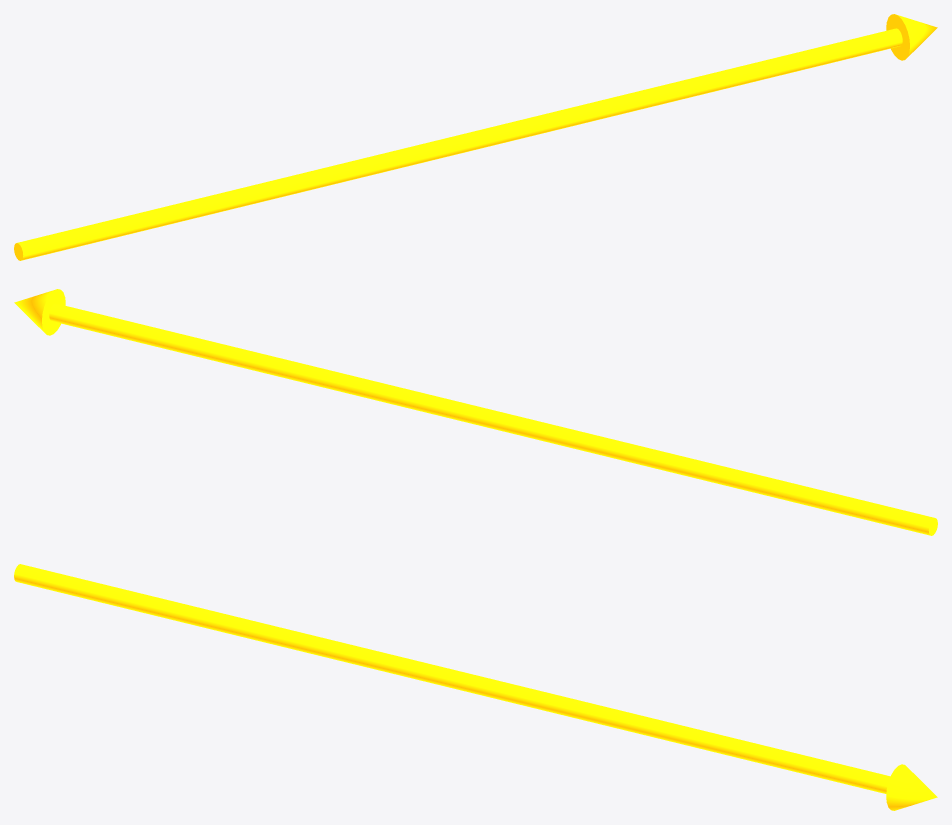
The model's file is laser_alignment_equipment_flow.glb.
The picture shows the model from 3 angles, top to bottom: view 1: azimuth 30°, elevation 25°; view 2: azimuth 150°, elevation 25°; view 3: azimuth 330°, elevation 25°; orthographic projection.
Parts seen in each view (by area): view 1: beam; view 2: beam; view 3: beam.
Part boxes in pixels (x1=…): beam: x1=14, y1=14, x2=937, y2=260; beam: x1=14, y1=289, x2=937, y2=535; beam: x1=14, y1=564, x2=937, y2=810.
Bounding box in the file's own units: 0.346 × 0.0156 × 0.0156.
